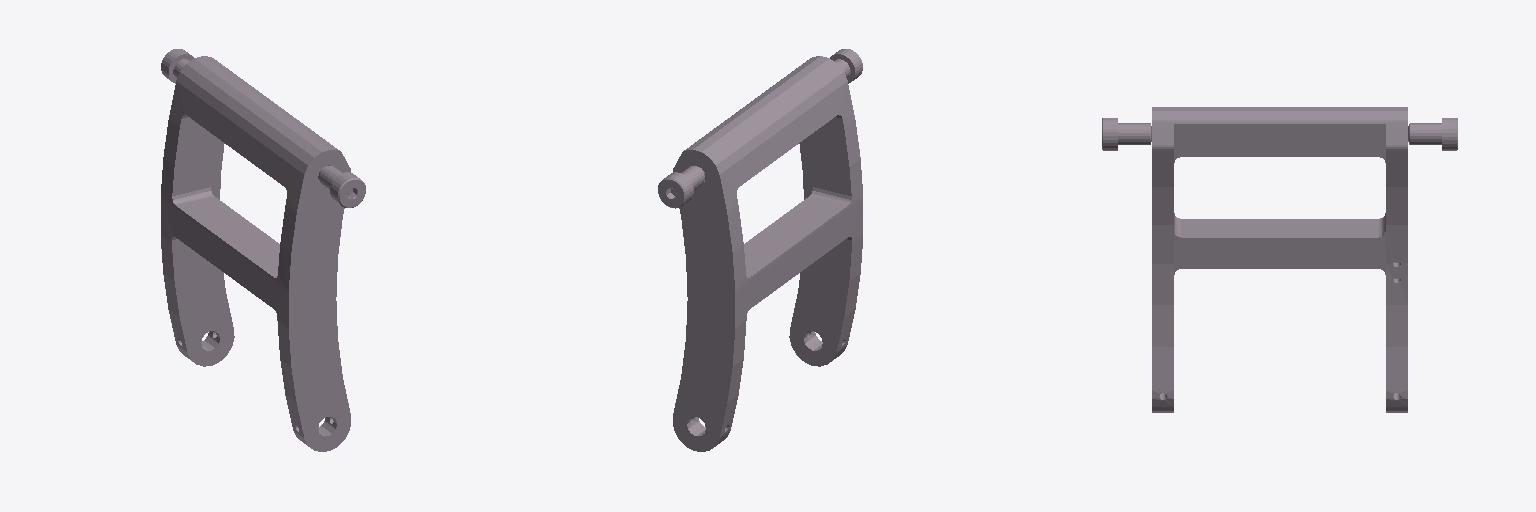
File: pitch_link.OBJ
3 views of the same model, side by side, from view 1: azimuth 30°, elevation 25°; view 2: azimuth 150°, elevation 25°; view 3: azimuth 270°, elevation 25° (orthographic).
Visible parts, largest first — view 1: /ambf/env/neuro_robot/pitch_link_pitch_link; view 2: /ambf/env/neuro_robot/pitch_link_pitch_link; view 3: /ambf/env/neuro_robot/pitch_link_pitch_link.
Boxes of the visible parts, x1=… form: /ambf/env/neuro_robot/pitch_link_pitch_link: x1=161, y1=49, x2=365, y2=451; /ambf/env/neuro_robot/pitch_link_pitch_link: x1=658, y1=49, x2=862, y2=451; /ambf/env/neuro_robot/pitch_link_pitch_link: x1=1102, y1=107, x2=1457, y2=412.
Size of the model in its own units: 0.0211 by 0.0959 by 0.1028.